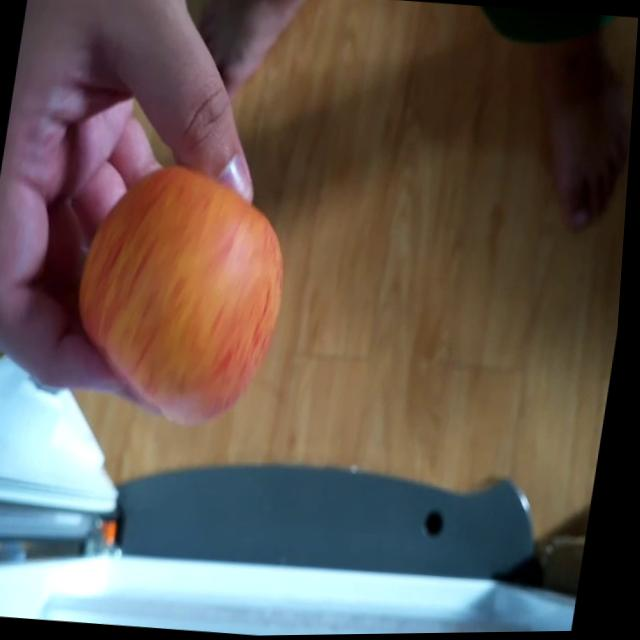apple: (61, 156, 298, 431)
